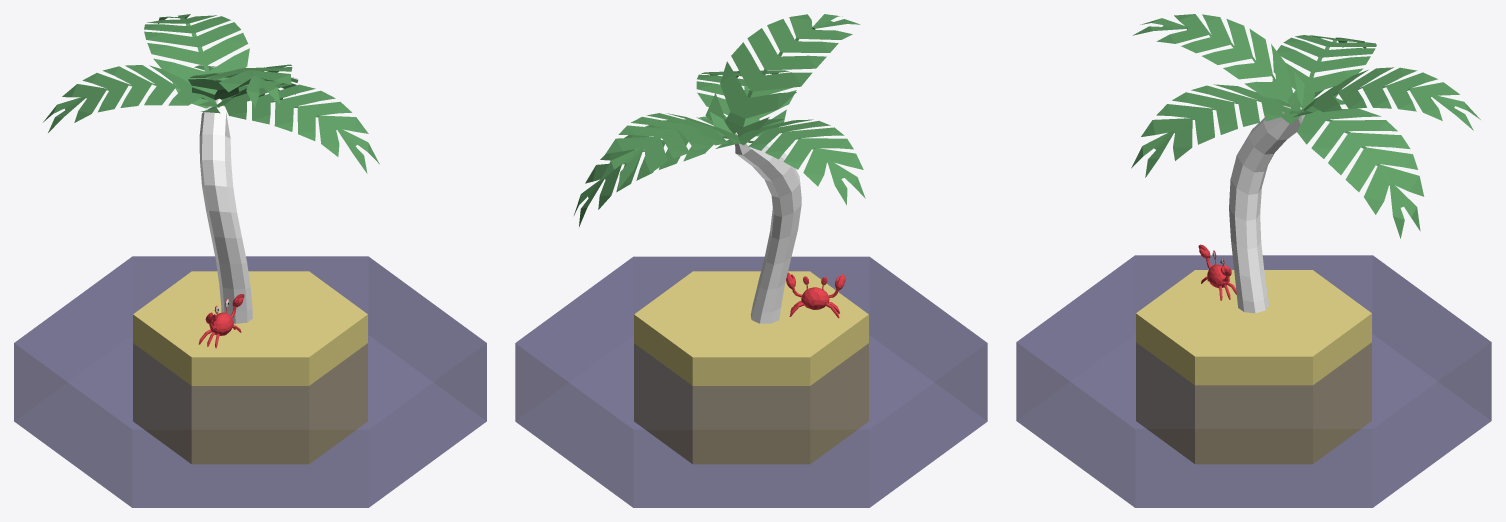
Rendered from HexCell_Beach_Connect_6.glb.
The picture shows the model from 3 angles, left to right: view 1: azimuth 30°, elevation 25°; view 2: azimuth 150°, elevation 25°; view 3: azimuth 270°, elevation 25°; orthographic projection.
Visible parts, largest first — view 1: HexCell_Beach_Connect_6; view 2: HexCell_Beach_Connect_6; view 3: HexCell_Beach_Connect_6.
Part boxes in pixels (x1=…): HexCell_Beach_Connect_6: x1=14, y1=14, x2=486, y2=507; HexCell_Beach_Connect_6: x1=515, y1=14, x2=987, y2=507; HexCell_Beach_Connect_6: x1=1016, y1=14, x2=1491, y2=507.
Bounding box in the file's own units: 1.73 × 1.76 × 2.
